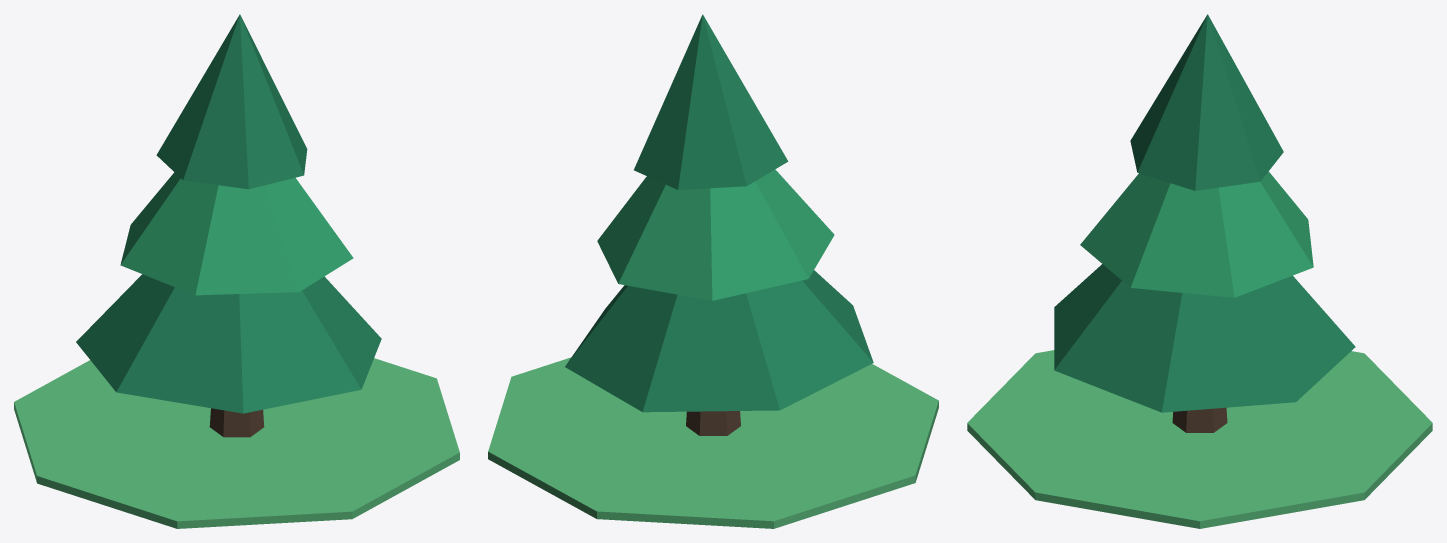
Rendered from tree.glb.
3 renders of one model, left to right at view 1: azimuth 30°, elevation 25°; view 2: azimuth 150°, elevation 25°; view 3: azimuth 270°, elevation 25°, orthographic.
Parts seen in each view (by area): view 1: ground, leaf0, leaf1, leaf2, trunk; view 2: ground, leaf0, leaf1, leaf2, trunk; view 3: ground, leaf0, leaf1, leaf2, trunk.
Part boxes in pixels (box(x1,y1,x2,y2)): ground: box(14, 358, 459, 528); leaf0: box(76, 274, 381, 413); leaf1: box(120, 172, 353, 295); leaf2: box(156, 14, 307, 189); trunk: box(209, 408, 264, 437); ground: box(488, 357, 938, 528); leaf0: box(565, 270, 873, 412); leaf1: box(597, 169, 834, 300); leaf2: box(634, 14, 788, 189); trunk: box(686, 411, 740, 435); ground: box(967, 350, 1432, 528); leaf0: box(1054, 264, 1355, 412); leaf1: box(1080, 171, 1313, 297); leaf2: box(1130, 14, 1283, 190); trunk: box(1172, 407, 1227, 432).
Bounding box in the file's own units: 4.4 × 4.38 × 4.4.
